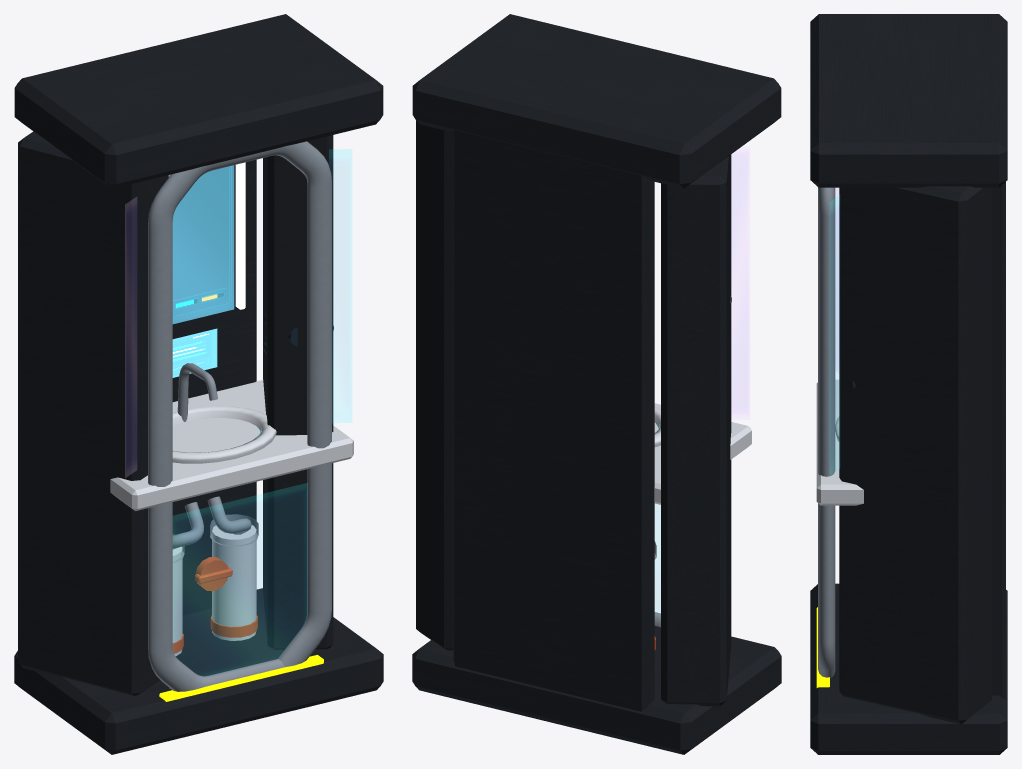
Rendered from vanity_r1_05.glb.
3 views of the same model, side by side, from view 1: azimuth 30°, elevation 25°; view 2: azimuth 150°, elevation 25°; view 3: azimuth 270°, elevation 25° (orthographic).
Parts seen in each view (by area): view 1: Vanity05_CornerWedgeGunmetalHull, Vanity05_MachinedSteelFaucetAndBezel, Vanity05_TrapezoidalWhiteBasinAndFilters, Vanity05_RightWingAndLowerTranslucentDoors, Vanity05_CenterTrapezoidalSmartMirror, Vanity05_LeftWingUVTranslucentDoor, Vanity05_SignalOrangeMedDispenserAndValves, Vanity05_CenterOLEDHygienePanel, Vanity05_MirrorIceWhiteBars, Vanity05_AmberToeKickLED; view 2: Vanity05_CornerWedgeGunmetalHull, Vanity05_LeftWingUVTranslucentDoor, Vanity05_TrapezoidalWhiteBasinAndFilters; view 3: Vanity05_CornerWedgeGunmetalHull, Vanity05_MachinedSteelFaucetAndBezel, Vanity05_TrapezoidalWhiteBasinAndFilters, Vanity05_RightWingAndLowerTranslucentDoors.
Boxes of the visible parts, left/top/right/bottom form: Vanity05_CornerWedgeGunmetalHull: left=14, top=14, right=383, bottom=754; Vanity05_MachinedSteelFaucetAndBezel: left=148, top=141, right=331, bottom=691; Vanity05_TrapezoidalWhiteBasinAndFilters: left=110, top=380, right=353, bottom=656; Vanity05_RightWingAndLowerTranslucentDoors: left=169, top=149, right=351, bottom=688; Vanity05_CenterTrapezoidalSmartMirror: left=168, top=165, right=234, bottom=324; Vanity05_LeftWingUVTranslucentDoor: left=125, top=197, right=136, bottom=477; Vanity05_SignalOrangeMedDispenserAndValves: left=172, top=557, right=257, bottom=653; Vanity05_CenterOLEDHygienePanel: left=172, top=328, right=217, bottom=377; Vanity05_MirrorIceWhiteBars: left=235, top=162, right=245, bottom=309; Vanity05_AmberToeKickLED: left=159, top=655, right=323, bottom=701; Vanity05_CornerWedgeGunmetalHull: left=412, top=14, right=781, bottom=754; Vanity05_LeftWingUVTranslucentDoor: left=732, top=146, right=749, bottom=419; Vanity05_TrapezoidalWhiteBasinAndFilters: left=654, top=403, right=751, bottom=504; Vanity05_CornerWedgeGunmetalHull: left=810, top=14, right=1007, bottom=754; Vanity05_MachinedSteelFaucetAndBezel: left=818, top=187, right=835, bottom=678; Vanity05_TrapezoidalWhiteBasinAndFilters: left=816, top=379, right=863, bottom=505; Vanity05_RightWingAndLowerTranslucentDoors: left=830, top=195, right=839, bottom=475.
Size of the model in its own units: 1.08 by 2.05 by 0.6.
Materials: 13 (13 with a texture image).
